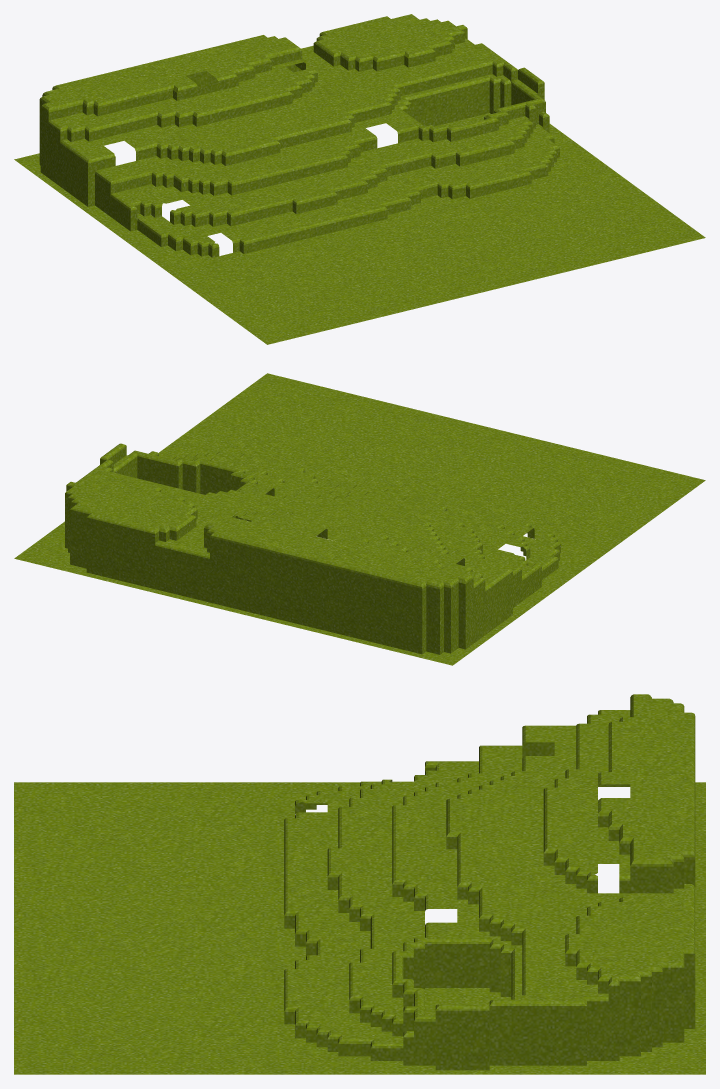
File: Solbourg_Terrain.fbx
3 views of the same model, one above another, from view 1: azimuth 30°, elevation 25°; view 2: azimuth 150°, elevation 25°; view 3: azimuth 270°, elevation 25° (orthographic). The views are drawn at different scales.
Parts seen in each view (by area): view 1: Plane; view 2: Plane; view 3: Plane.
Part boxes in pixels (x1=…): Plane: x1=14, y1=14, x2=705, y2=344; Plane: x1=14, y1=373, x2=705, y2=665; Plane: x1=14, y1=694, x2=705, y2=1074.
Size of the model in its own units: 1000 by 150 by 1000.
Materials: 1 (1 with a texture image).
